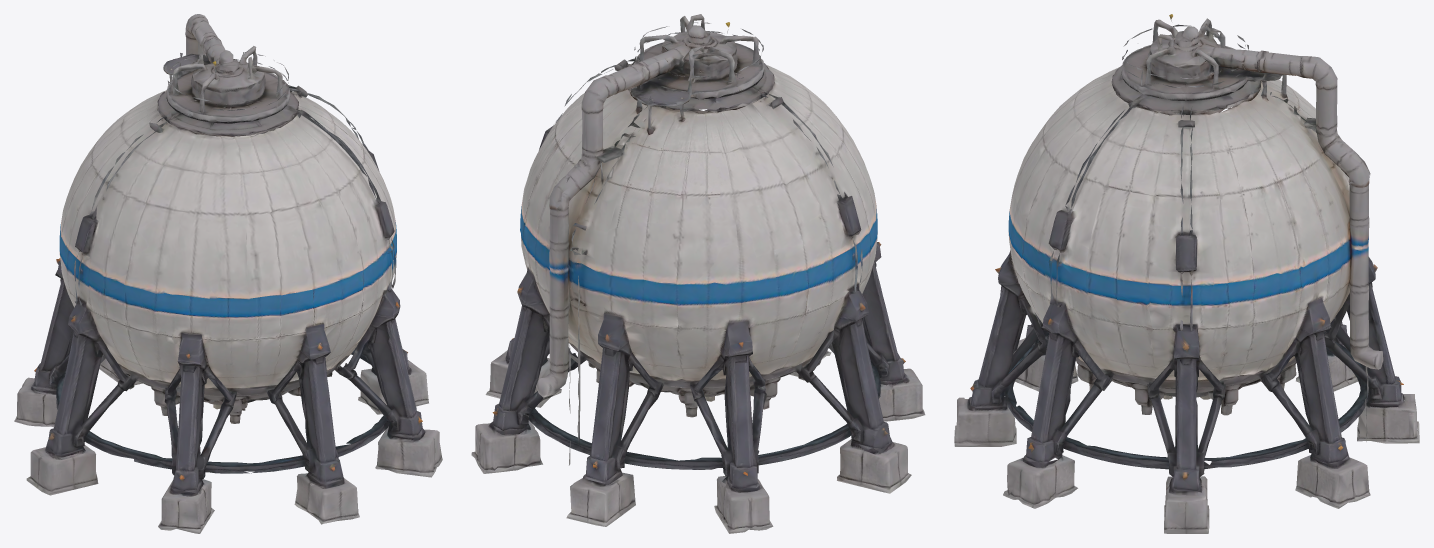
Rendered from sphereTank.glb.
3 views of the same model, side by side, from view 1: azimuth 30°, elevation 25°; view 2: azimuth 150°, elevation 25°; view 3: azimuth 270°, elevation 25° (orthographic). The views are drawn at different scales.
Parts seen in each view (by area): view 1: sphereTank; view 2: sphereTank; view 3: sphereTank.
Part boxes in pixels (x1,y1,x2,y2): sphereTank: (14,14,442,533); sphereTank: (471,14,925,533); sphereTank: (954,14,1419,533).
Bounding box in the file's own units: 26.5 × 25.84 × 26.55.
1 material, 1 textured.
